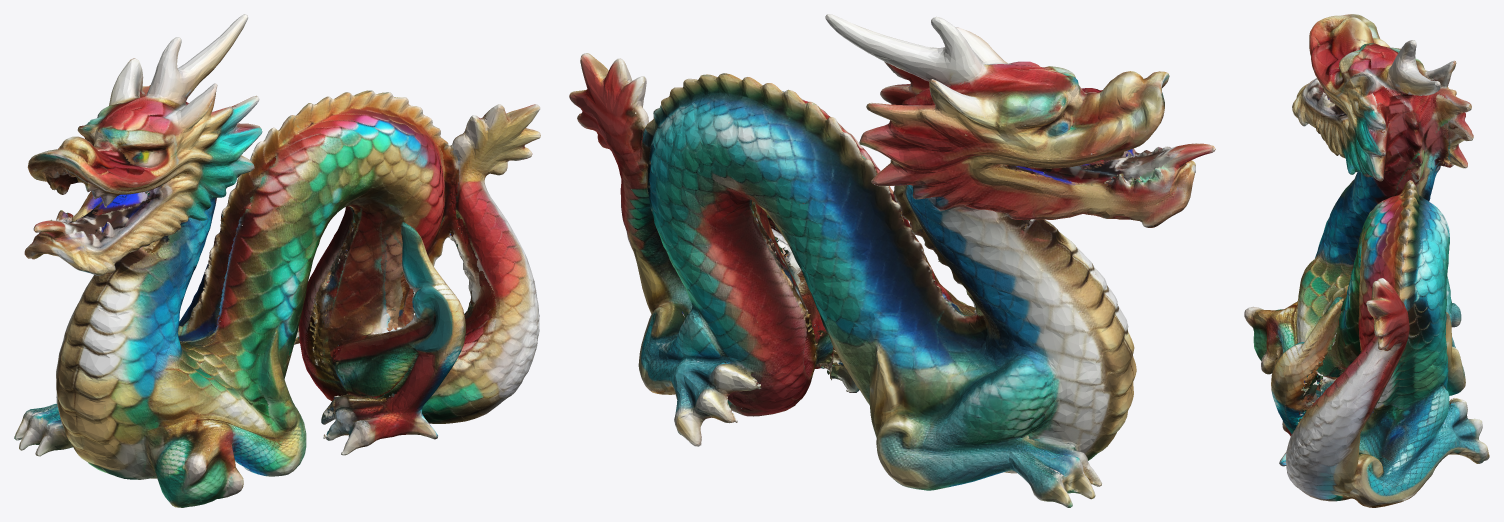
File: textured_ours.glb
3 views of the same model, side by side, from view 1: azimuth 30°, elevation 25°; view 2: azimuth 150°, elevation 25°; view 3: azimuth 270°, elevation 25° (orthographic). The views are drawn at different scales.
Visible parts, largest first — view 1: Node; view 2: Node; view 3: Node.
Boxes of the visible parts, x1=… form: Node: x1=14, y1=14, x2=540, y2=507; Node: x1=569, y1=14, x2=1215, y2=507; Node: x1=1244, y1=14, x2=1489, y2=507.
Size of the model in its own units: 2 by 1.41 by 0.8946.
1 material, 1 textured.
